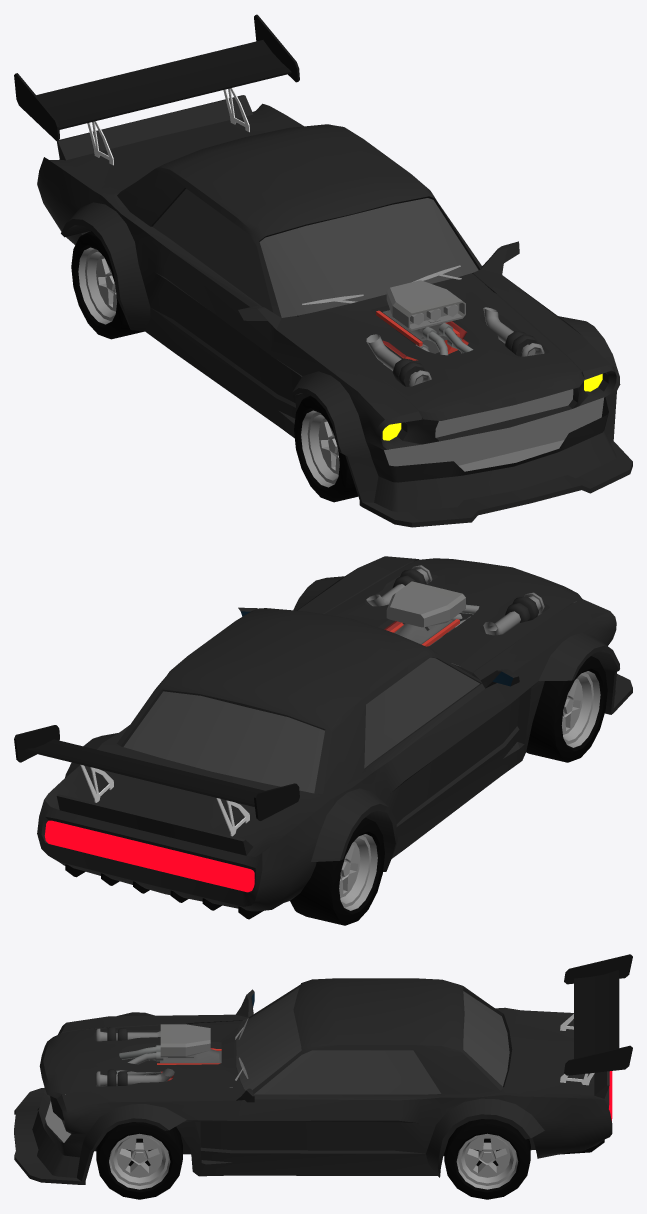
The model's file is Not1965FordMustangHoonicorn.glb.
3 renders of one model, top to bottom at view 1: azimuth 30°, elevation 25°; view 2: azimuth 150°, elevation 25°; view 3: azimuth 270°, elevation 25°, orthographic. The views are drawn at different scales.
Parts seen in each view (by area): view 1: Body, Spoiler, Motor, WheelFronRight, WheelBackRright, Turbos, SpoilerBase; view 2: Body, Spoiler, WheelFronRight, WheelBackRright, HeadlightBack, Motor, Turbos, SpoilerBase; view 3: Body, Spoiler, WheelBackLeft, WheelFrontLeft, Motor, Turbos.
Boxes of the visible parts, x1=… form: Body: x1=37, y1=95, x2=632, y2=527; Spoiler: x1=14, y1=14, x2=299, y2=140; Motor: x1=376, y1=280, x2=473, y2=360; WheelFronRight: x1=294, y1=395, x2=358, y2=502; WheelBackRright: x1=71, y1=231, x2=144, y2=339; Turbos: x1=366, y1=307, x2=544, y2=386; SpoilerBase: x1=87, y1=88, x2=249, y2=165; Body: x1=37, y1=556, x2=632, y2=919; Spoiler: x1=14, y1=725, x2=299, y2=820; WheelFronRight: x1=526, y1=656, x2=607, y2=762; WheelBackRright: x1=290, y1=817, x2=384, y2=925; HeadlightBack: x1=44, y1=820, x2=254, y2=892; Motor: x1=384, y1=581, x2=479, y2=646; Turbos: x1=366, y1=565, x2=544, y2=635; SpoilerBase: x1=80, y1=764, x2=249, y2=836; Body: x1=14, y1=978, x2=612, y2=1184; Spoiler: x1=564, y1=954, x2=632, y2=1075; WheelBackLeft: x1=444, y1=1119, x2=530, y2=1199; WheelFrontLeft: x1=96, y1=1122, x2=182, y2=1199; Motor: x1=116, y1=1024, x2=221, y2=1081; Turbos: x1=96, y1=1027, x2=174, y2=1086.
Size of the model in its own units: 2.92 by 1.92 by 7.12.
Materials: 5 (1 with a texture image).
